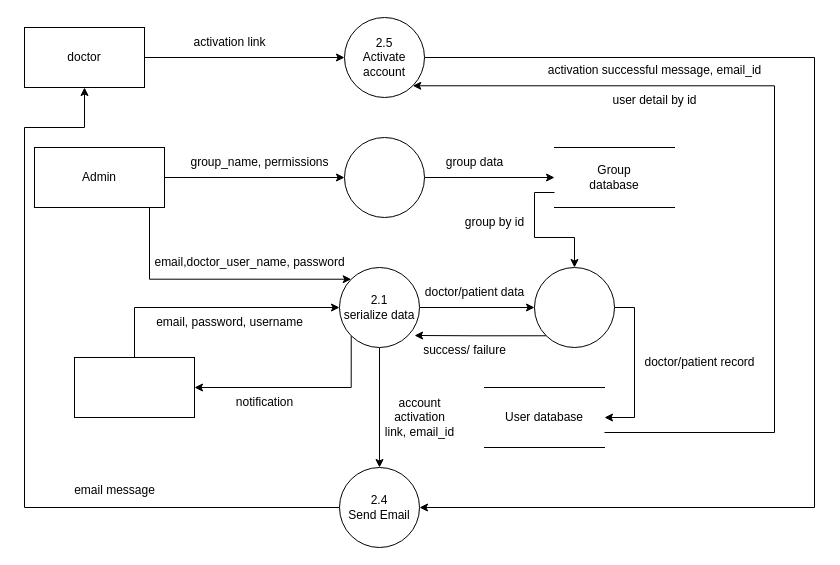
This 840x565 diagram has some shape labels left out. The shapes that lost their labels are listed below. From the top down, each one's centre as x and y in pixels, then its label:
the point at 384,177: 2.2 Group Handler
the point at 574,307: 2.3 Assign group
the point at 134,387: Patient
